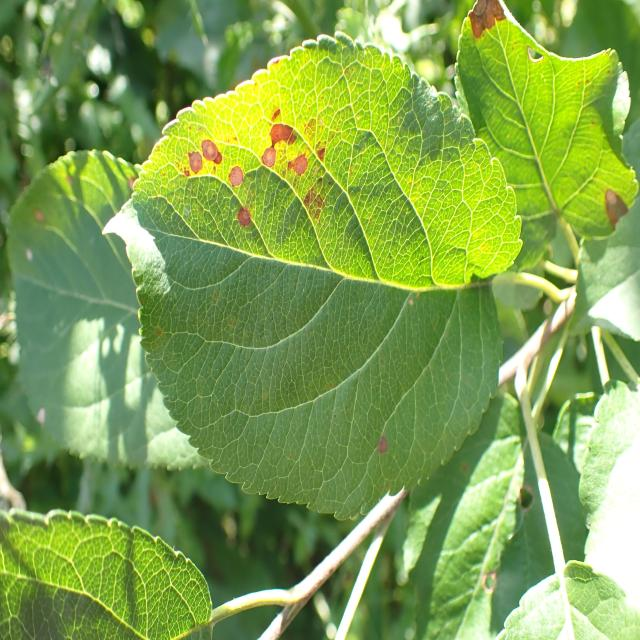Black Rot: (592, 168, 637, 238), (174, 122, 223, 186), (457, 2, 510, 52), (258, 99, 300, 149), (472, 567, 514, 604), (370, 419, 400, 470), (223, 146, 251, 200), (230, 203, 261, 247), (512, 480, 542, 518), (281, 147, 313, 180), (260, 134, 280, 185), (522, 38, 545, 81)
